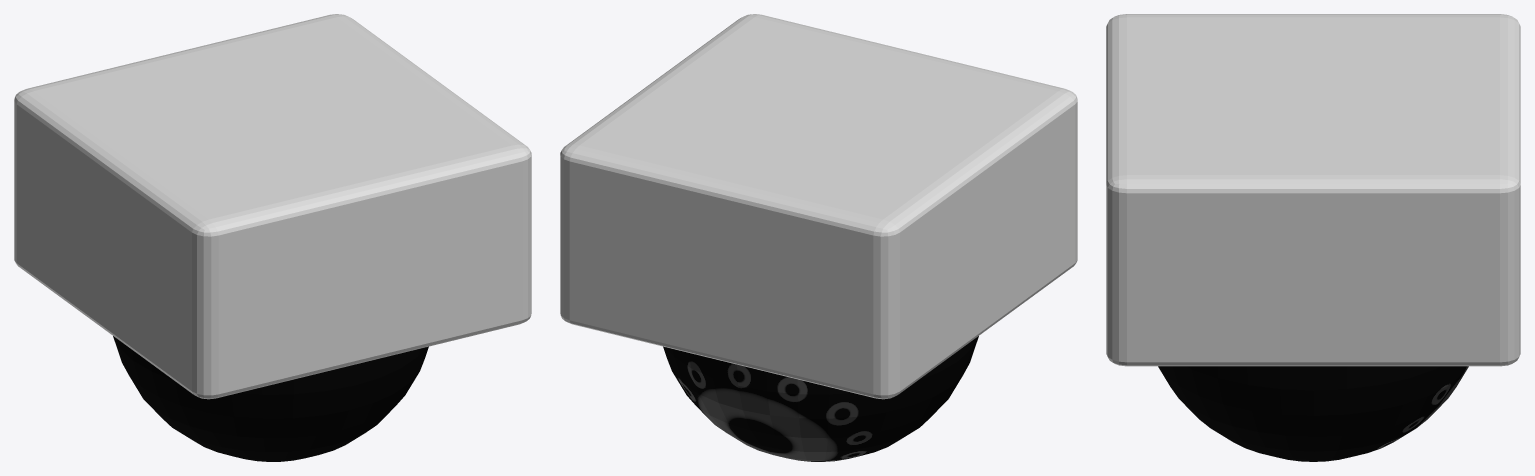
File: cctv_camera1.glb
3 views of the same model, side by side, from view 1: azimuth 30°, elevation 25°; view 2: azimuth 150°, elevation 25°; view 3: azimuth 270°, elevation 25° (orthographic). The views are drawn at different scales.
Parts seen in each view (by area): view 1: Cube, Sphere; view 2: Cube, Sphere; view 3: Cube, Sphere.
Part boxes in pixels (box(x1,y1,x2,y2)): Cube: box(14, 14, 531, 399); Sphere: box(113, 336, 428, 461); Cube: box(560, 14, 1077, 399); Sphere: box(663, 336, 978, 461); Cube: box(1106, 14, 1520, 366); Sphere: box(1158, 366, 1468, 461).
Size of the model in its own units: 2 by 1.86 by 2.
Materials: 2 (1 with a texture image).
